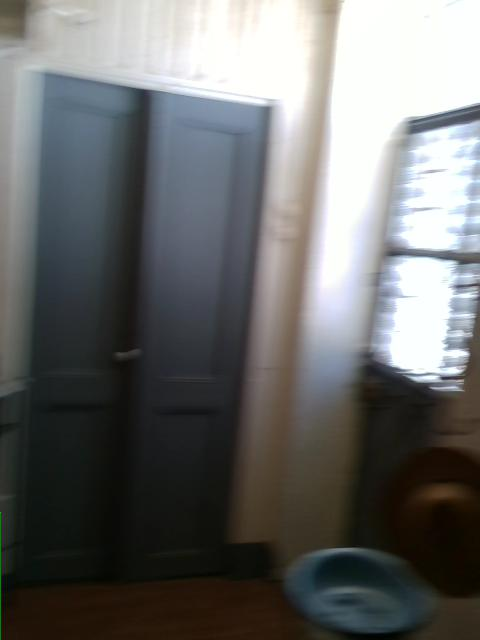door: (13, 66, 272, 582)
